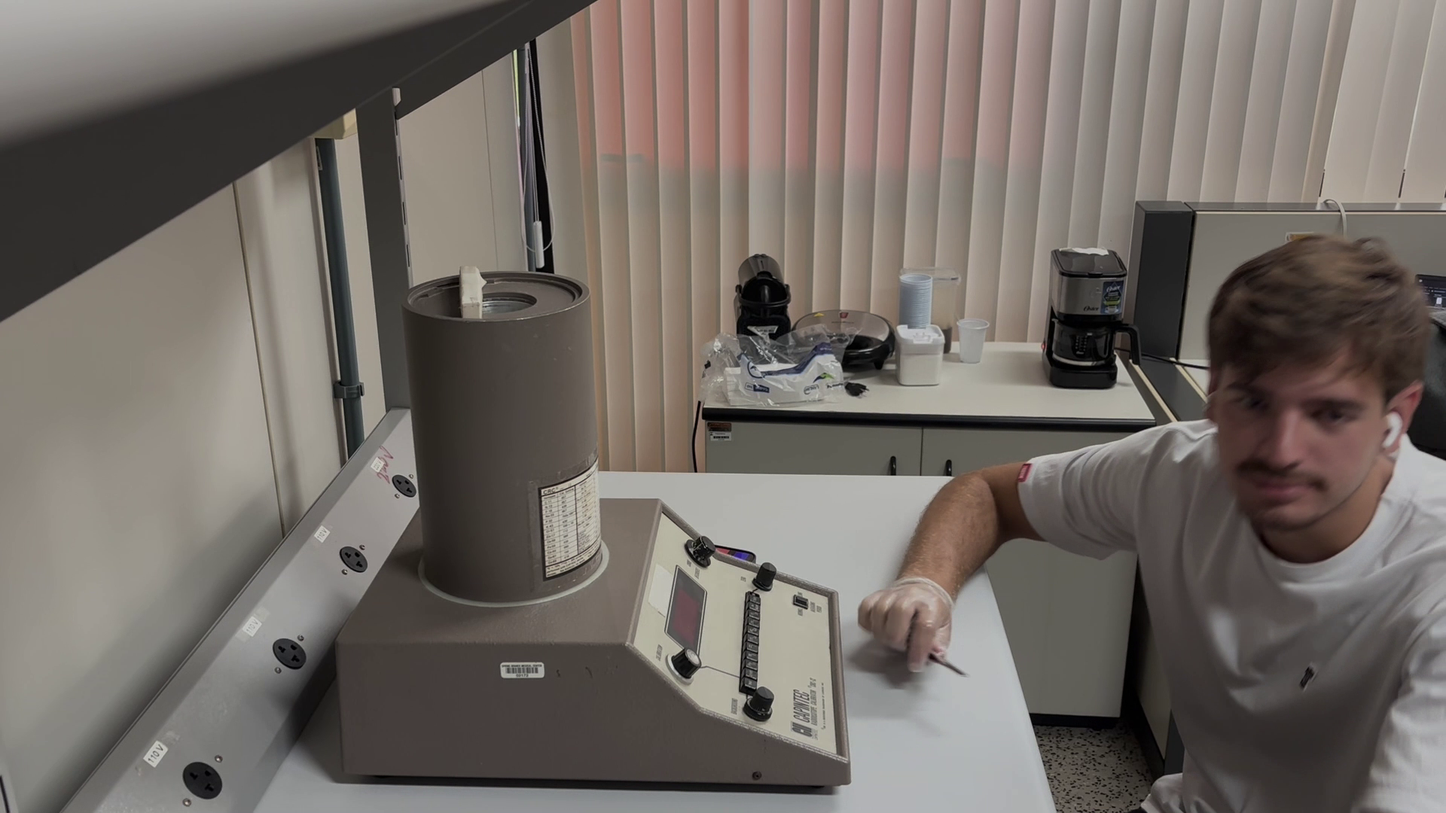Ativimetro: (398, 267, 609, 606)
Com_Luva: (857, 574, 953, 674)
